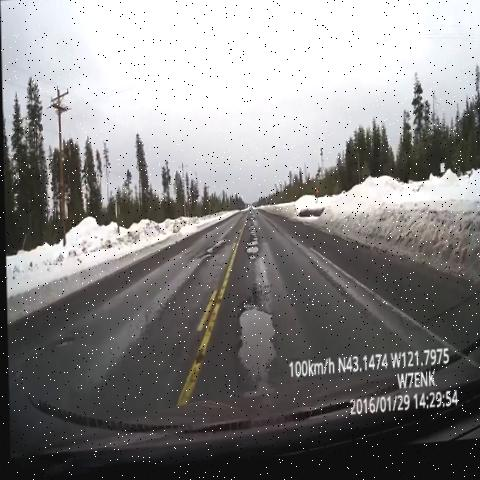pothole: (224, 284, 288, 408), (191, 237, 233, 274), (239, 213, 261, 273), (47, 329, 82, 358)
